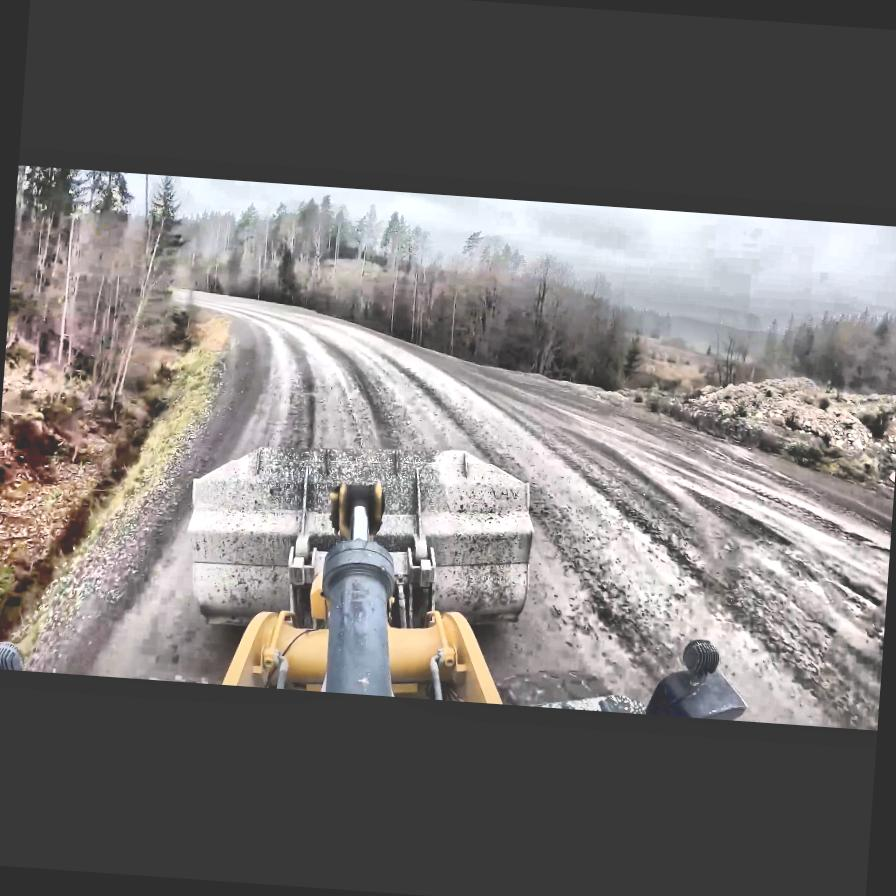anchor: (330, 480, 386, 544)
